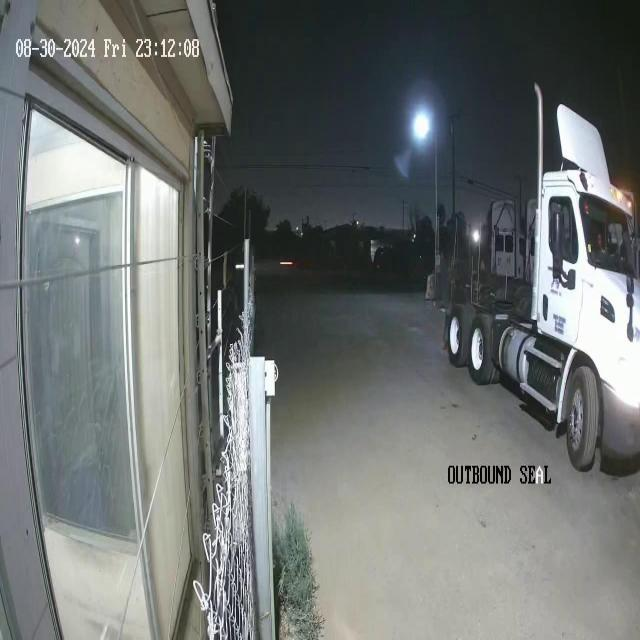TRUCK_IN: (441, 82, 639, 474)
